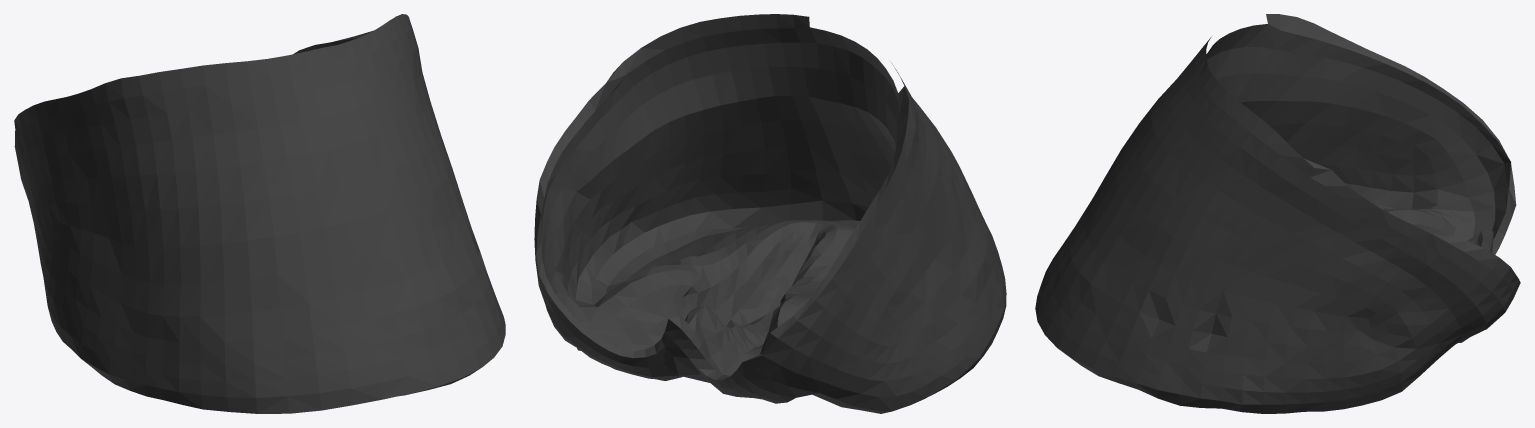
File: Hoof_LFL.glb
The picture shows the model from 3 angles, left to right: view 1: azimuth 30°, elevation 25°; view 2: azimuth 150°, elevation 25°; view 3: azimuth 270°, elevation 25°; orthographic projection. The views are drawn at different scales.
Visible parts, largest first — view 1: Hoof_LFL; view 2: Hoof_LFL; view 3: Hoof_LFL.
Boxes of the visible parts, left/top/right/bottom form: Hoof_LFL: left=14, top=14, right=505, bottom=413; Hoof_LFL: left=534, top=14, right=1006, bottom=413; Hoof_LFL: left=1035, top=14, right=1520, bottom=413.
Bounding box in the file's own units: 0.1222 × 0.0975 × 0.1509.
Materials: 1 (1 with a texture image).
